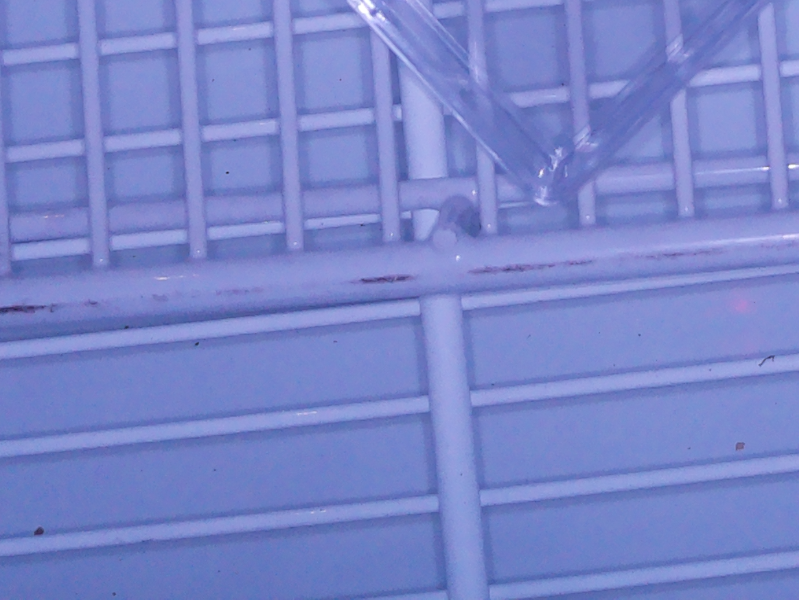plate: (344, 1, 776, 209)
